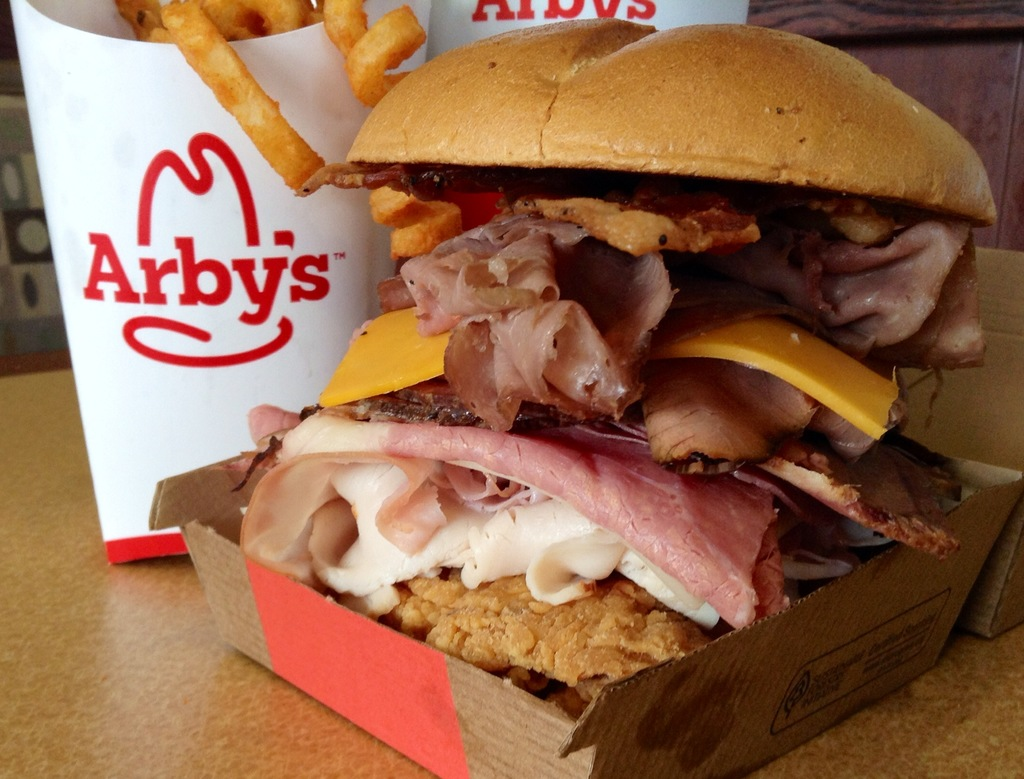Hamburger: (228, 18, 997, 716)
